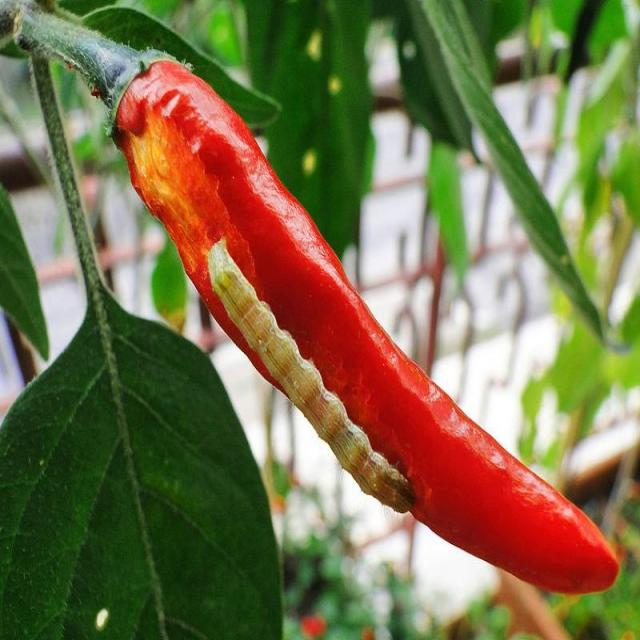grub: (205, 241, 419, 514)
